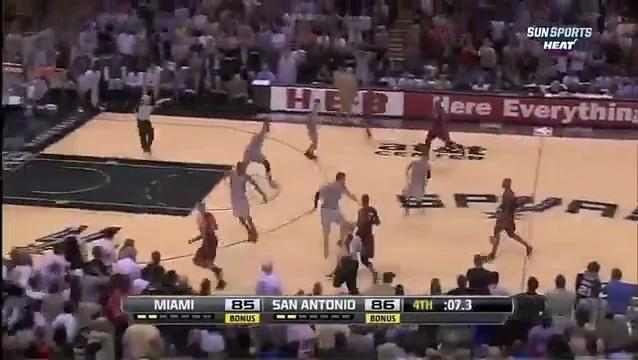Backboard: (22, 28, 56, 83)
Ball: (487, 233, 499, 246)
Basket: (44, 66, 65, 88)
Person: (483, 176, 535, 266), (312, 169, 356, 261), (220, 156, 262, 244), (399, 141, 443, 217), (421, 93, 468, 163), (243, 121, 277, 200), (191, 195, 223, 275), (356, 193, 383, 263), (300, 95, 324, 161), (354, 80, 379, 138)
Referee: (333, 216, 362, 291), (133, 90, 162, 155)
